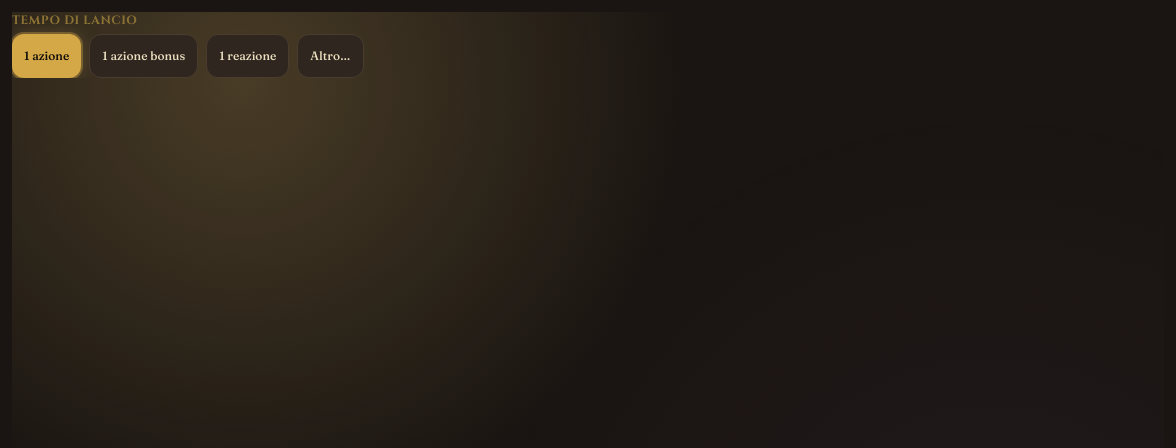
Test: PresetTextField › tapping the custom chip from a preset clears the value and reveals the input
Click the radio button labelled "Altro…" at (330, 56), box [297, 34, 364, 78]
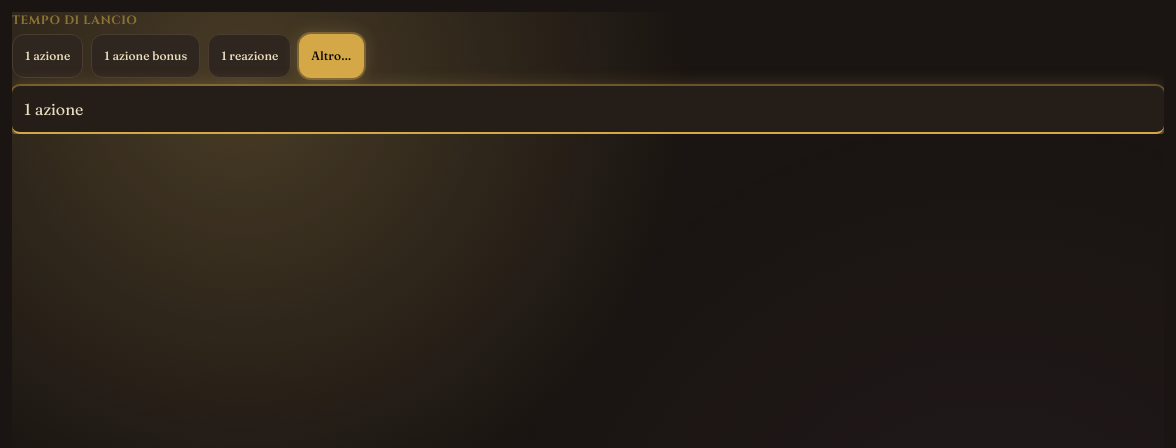
Expected: the field is shown, [12, 86, 1164, 134]
